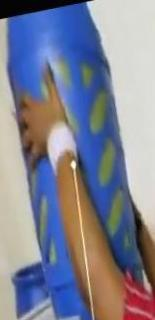cylinder: (1, 0, 155, 320)
